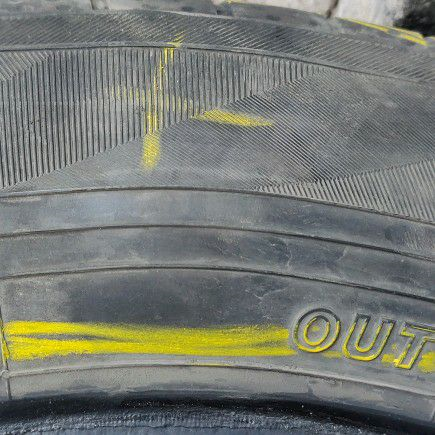CBU: (62, 179, 277, 332)
